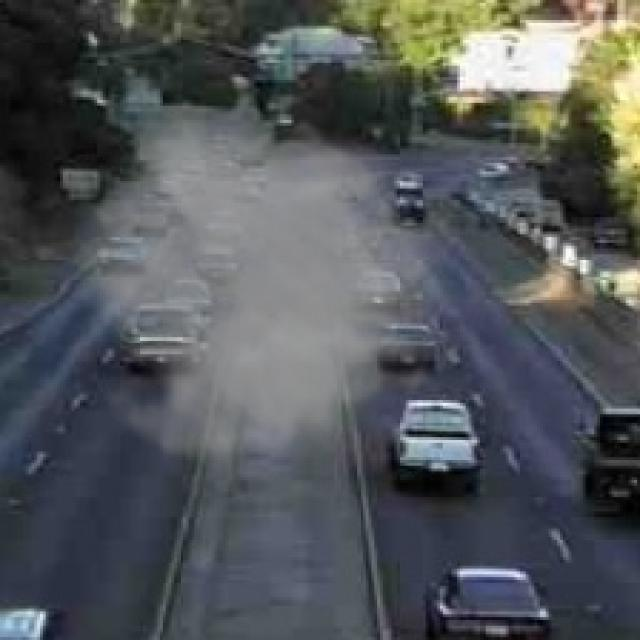Smoke: (63, 106, 466, 497)
